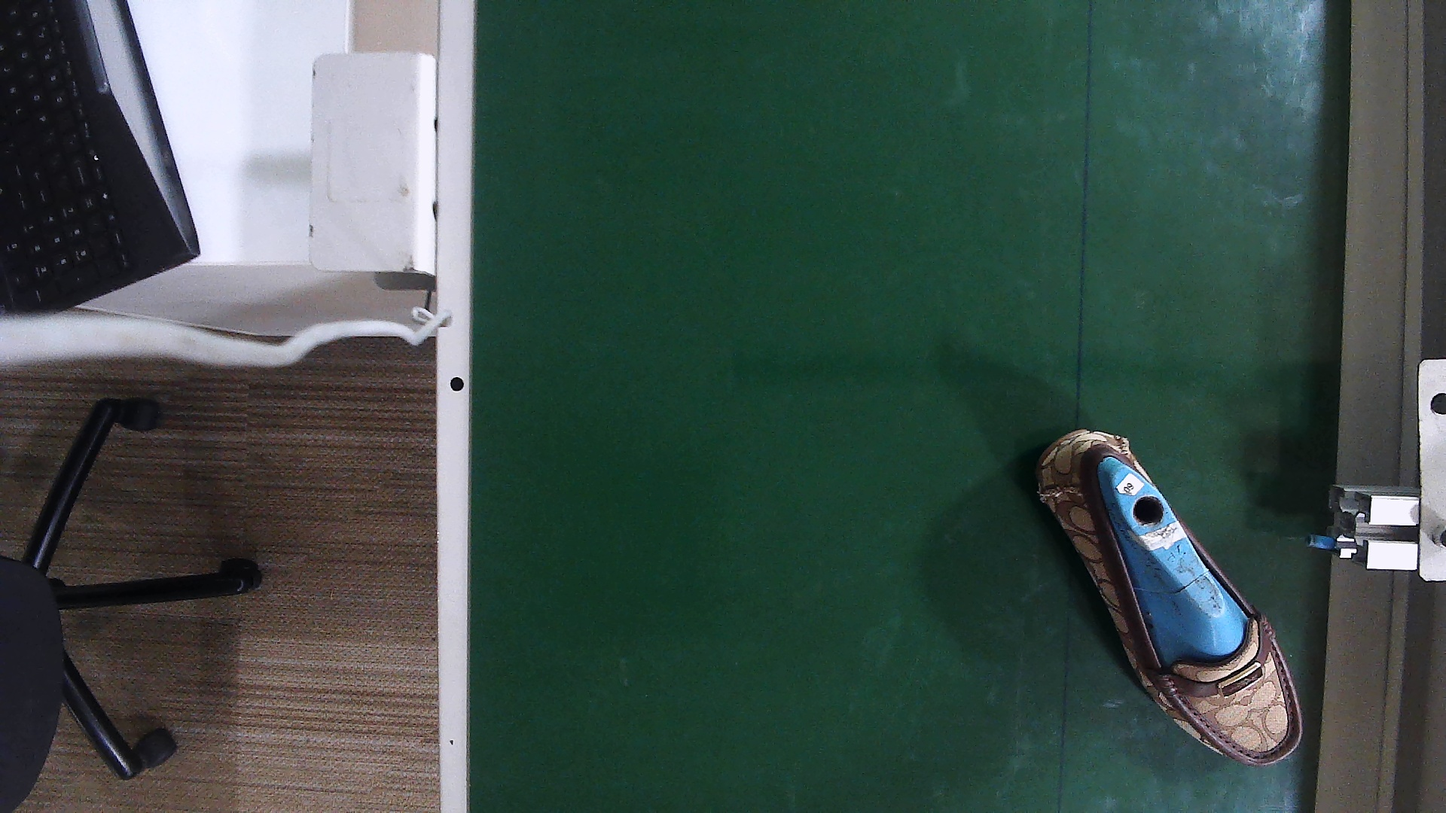shoe: (1042, 432, 1298, 763)
